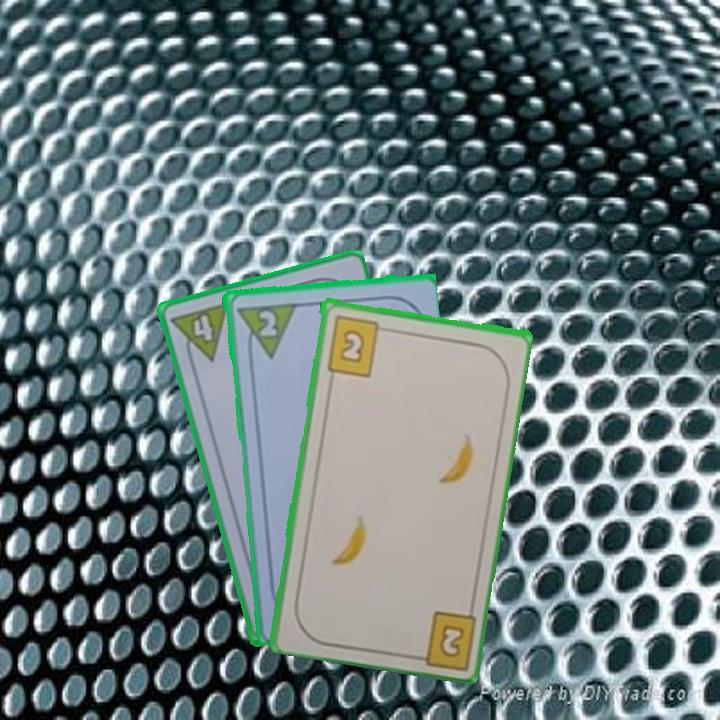2b: (323, 311, 391, 379), (406, 606, 478, 669)
2p: (232, 298, 297, 362)
4p: (167, 299, 231, 369)
